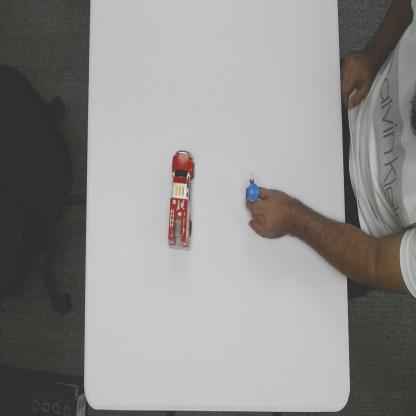Arm: (290, 197, 345, 276)
Firetruck: (167, 147, 196, 250)
Hand: (245, 185, 284, 237)
